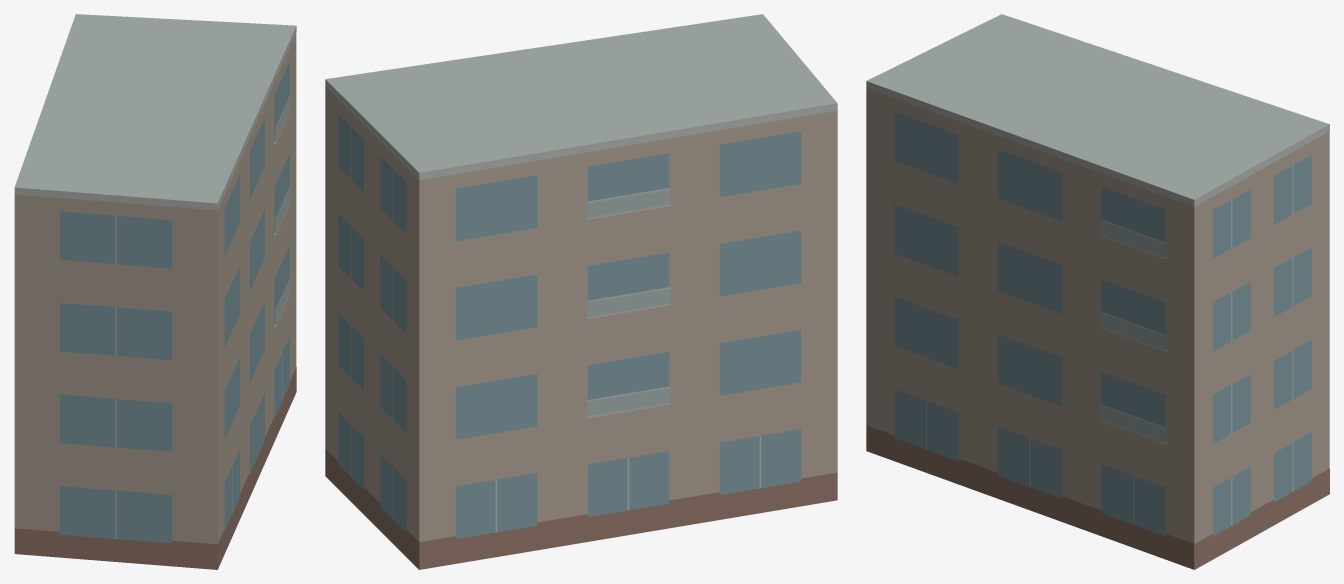
The model's file is survey-upis-32893332.glb.
3 views of the same model, side by side, from view 1: azimuth 30°, elevation 25°; view 2: azimuth 150°, elevation 25°; view 3: azimuth 270°, elevation 25° (orthographic). The views are drawn at different scales.
Parts seen in each view (by area): view 1: survey-upis-32893332.tmp; view 2: survey-upis-32893332.tmp; view 3: survey-upis-32893332.tmp.
Part boxes in pixels (left/top/right/bottom): survey-upis-32893332.tmp: left=14, top=14, right=296, bottom=569; survey-upis-32893332.tmp: left=325, top=14, right=837, bottom=569; survey-upis-32893332.tmp: left=866, top=14, right=1329, bottom=569.
Size of the model in its own units: 13.8 by 12.8 by 14.54.
